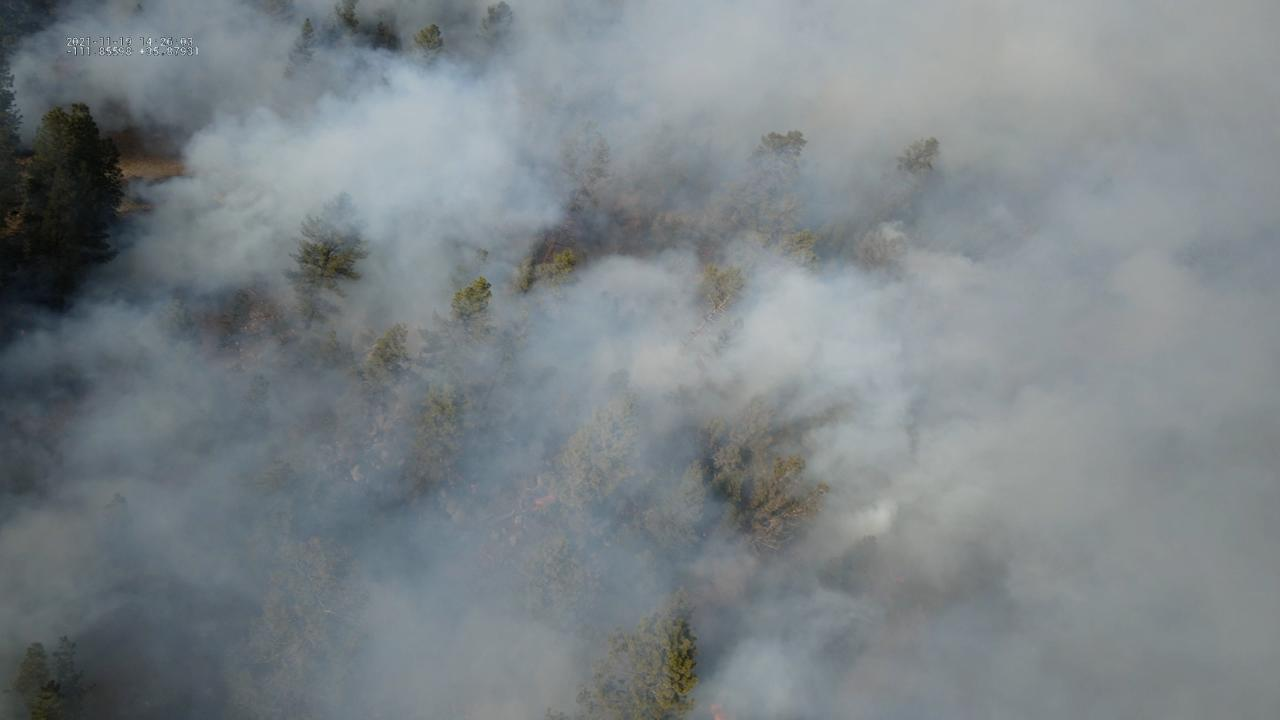fire: (706, 701, 726, 720)
smoke: (0, 0, 1280, 720)
